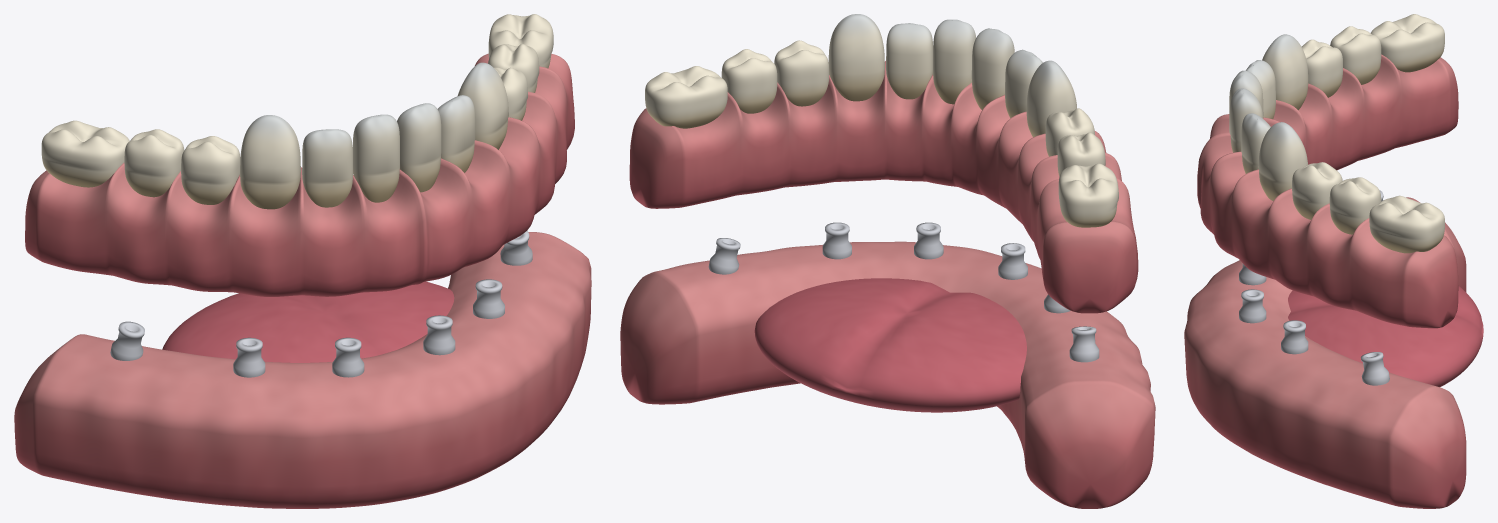
The model's file is protocolo-inferior.glb.
The picture shows the model from 3 angles, left to right: view 1: azimuth 30°, elevation 25°; view 2: azimuth 150°, elevation 25°; view 3: azimuth 270°, elevation 25°; orthographic projection. The views are drawn at different scales.
Parts seen in each view (by area): view 1: Base, Gengiva, Lingua, Dente_03_canino, Dente_00_molar, Dente_05_central, Dente_04_lateral, Dente_02_pre, Dente_01_pre, Dente_06_central, Dente_08_canino, Dente_07_lateral (+9 smaller); view 2: Base, Gengiva, Lingua, Dente_11_molar, Dente_08_canino, Dente_00_molar, Dente_07_lateral, Dente_06_central, Dente_09_pre, Dente_10_pre, Dente_05_central, Dente_03_canino (+8 smaller); view 3: Base, Gengiva, Lingua, Dente_11_molar, Dente_00_molar, Dente_08_canino, Dente_03_canino, Dente_10_pre, Dente_01_pre, Dente_09_pre, Dente_02_pre, Dente_07_lateral (+7 smaller).
Part boxes in pixels (<box>): Base: <box>14,232,591,508</box>; Gengiva: <box>25,53,574,296</box>; Lingua: <box>162,281,454,362</box>; Dente_03_canino: <box>240,115,300,209</box>; Dente_00_molar: <box>41,120,129,187</box>; Dente_05_central: <box>352,114,399,202</box>; Dente_04_lateral: <box>302,129,352,207</box>; Dente_02_pre: <box>181,136,240,204</box>; Dente_01_pre: <box>124,129,184,197</box>; Dente_06_central: <box>397,103,441,192</box>; Dente_08_canino: <box>457,62,508,149</box>; Dente_07_lateral: <box>437,95,475,172</box>; Base: <box>620,241,1155,508</box>; Gengiva: <box>629,61,1138,313</box>; Lingua: <box>754,278,1026,412</box>; Dente_11_molar: <box>645,66,727,128</box>; Dente_08_canino: <box>828,14,884,101</box>; Dente_00_molar: <box>1058,163,1118,227</box>; Dente_07_lateral: <box>886,23,932,99</box>; Dente_06_central: <box>933,19,975,104</box>; Dente_09_pre: <box>774,40,829,106</box>; Dente_10_pre: <box>721,49,777,113</box>; Dente_05_central: <box>971,28,1014,109</box>; Dente_03_canino: <box>1026,60,1076,137</box>; Base: <box>1184,197,1466,508</box>; Gengiva: <box>1197,54,1458,328</box>; Lingua: <box>1288,286,1483,386</box>; Dente_11_molar: <box>1369,195,1444,253</box>; Dente_00_molar: <box>1371,14,1444,72</box>; Dente_08_canino: <box>1258,122,1307,201</box>; Dente_03_canino: <box>1262,34,1308,110</box>; Dente_10_pre: <box>1329,177,1381,234</box>; Dente_01_pre: <box>1330,26,1381,84</box>; Dente_09_pre: <box>1292,162,1342,219</box>; Dente_02_pre: <box>1301,39,1342,97</box>; Dente_07_lateral: <box>1241,113,1270,173</box>.
Size of the model in its own units: 0.0695 by 0.0446 by 0.0377.
